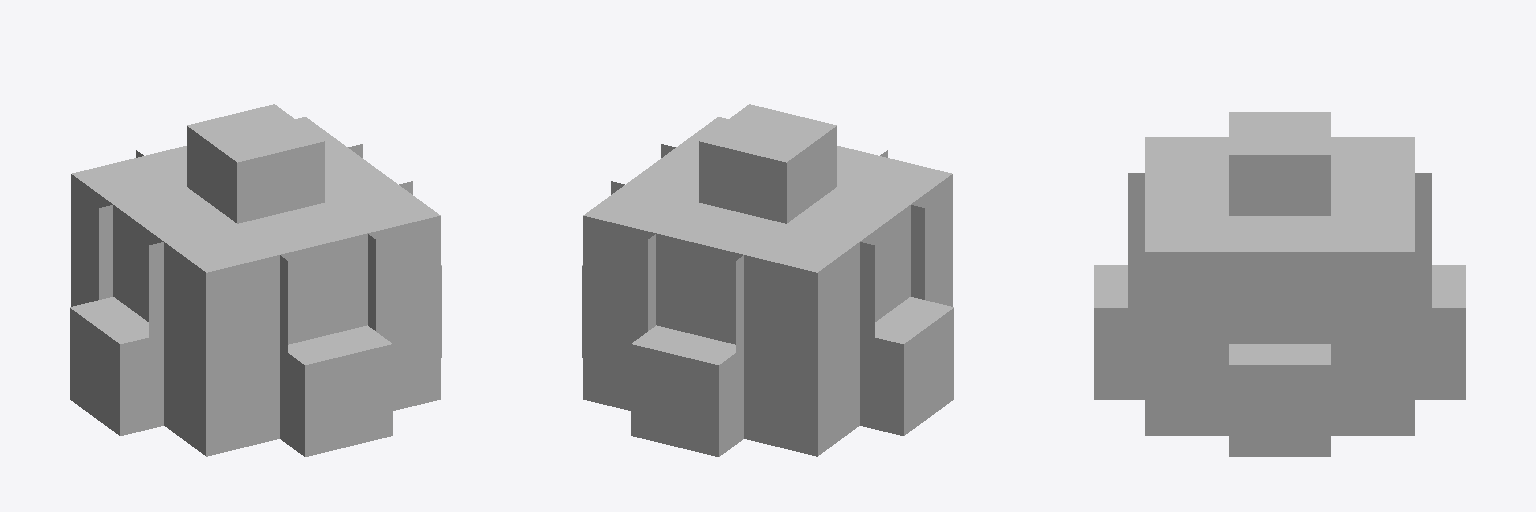
File: agriculture_huckleberry_bush.obj
3 views of the same model, side by side, from view 1: azimuth 30°, elevation 25°; view 2: azimuth 150°, elevation 25°; view 3: azimuth 270°, elevation 25° (orthographic).
Parts seen in each view (by area): view 1: nodebox8; view 2: nodebox8; view 3: nodebox8.
Boxes of the visible parts, x1,y1,x2,y2 form: nodebox8: [70, 104, 441, 456]; nodebox8: [582, 104, 953, 456]; nodebox8: [1094, 112, 1465, 456].
Size of the model in its own units: 1.24 by 0.9003 by 1.24.